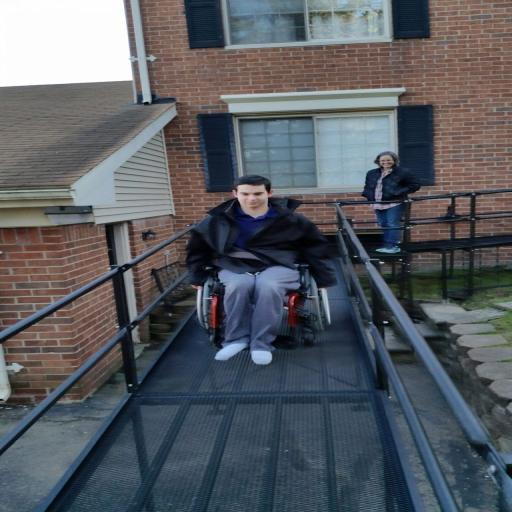crosswalk: (185, 172, 341, 364), (362, 146, 425, 258)
entrance: (0, 186, 512, 512)
road: (198, 245, 346, 348)
